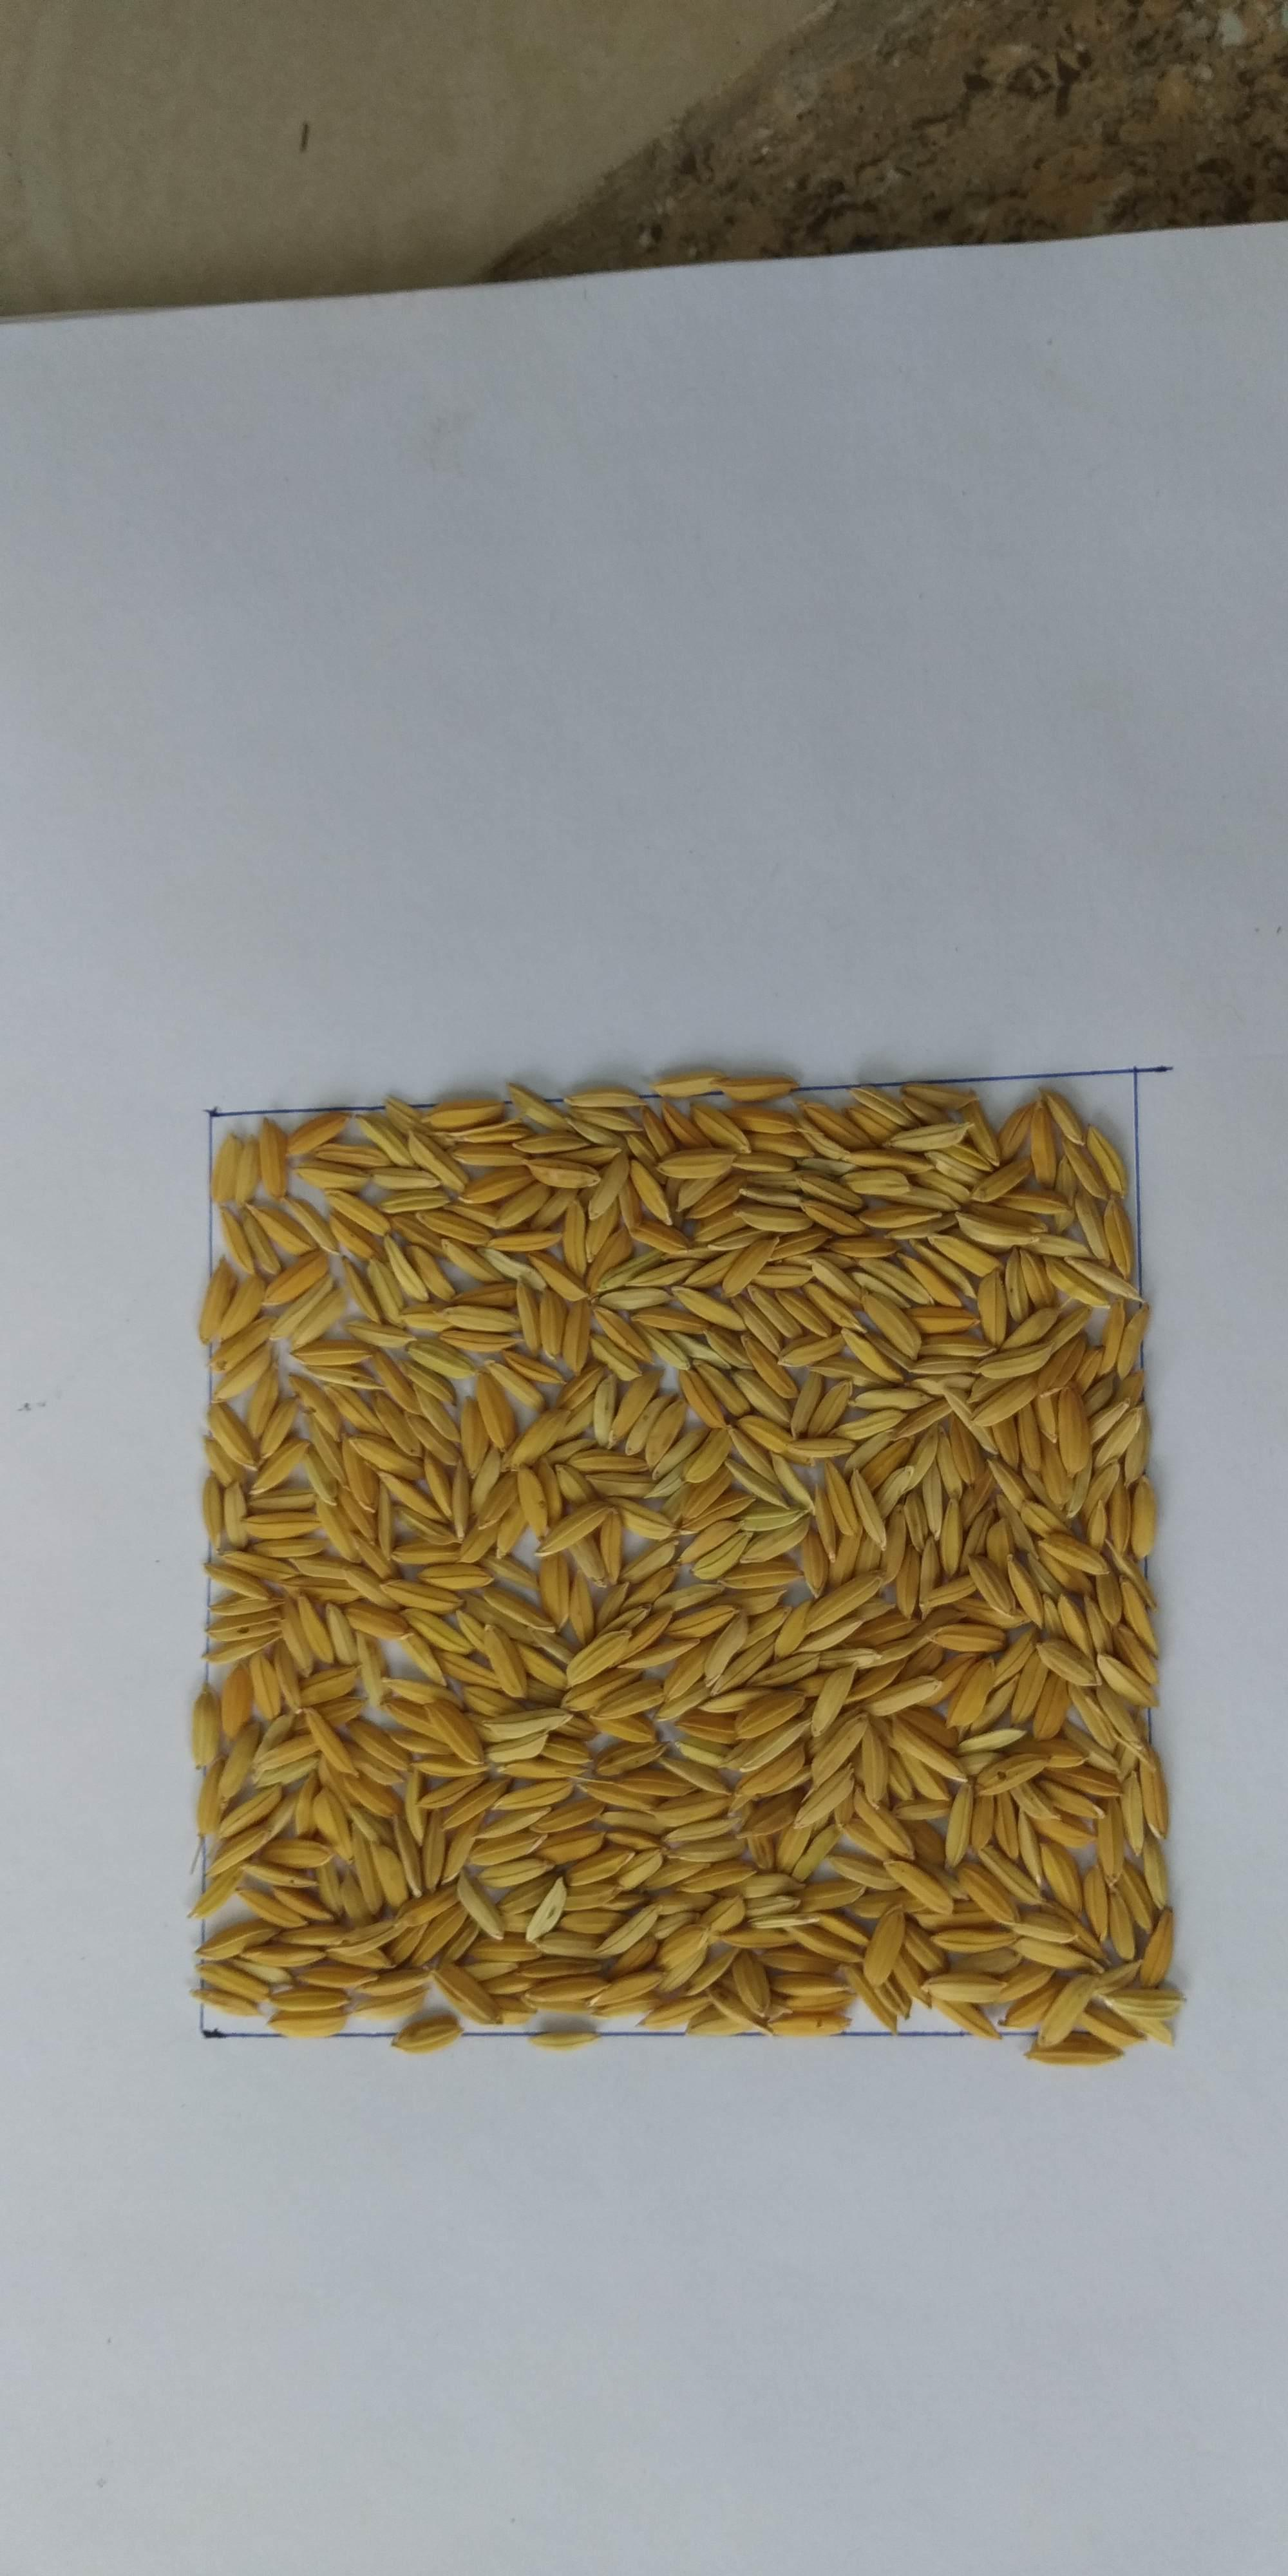pure: (202, 1086, 1168, 2042)
